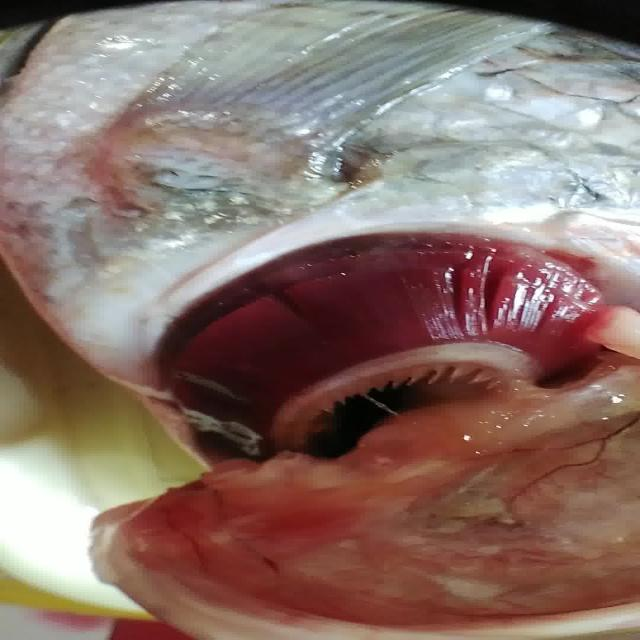Fresh: (174, 222, 577, 478)
